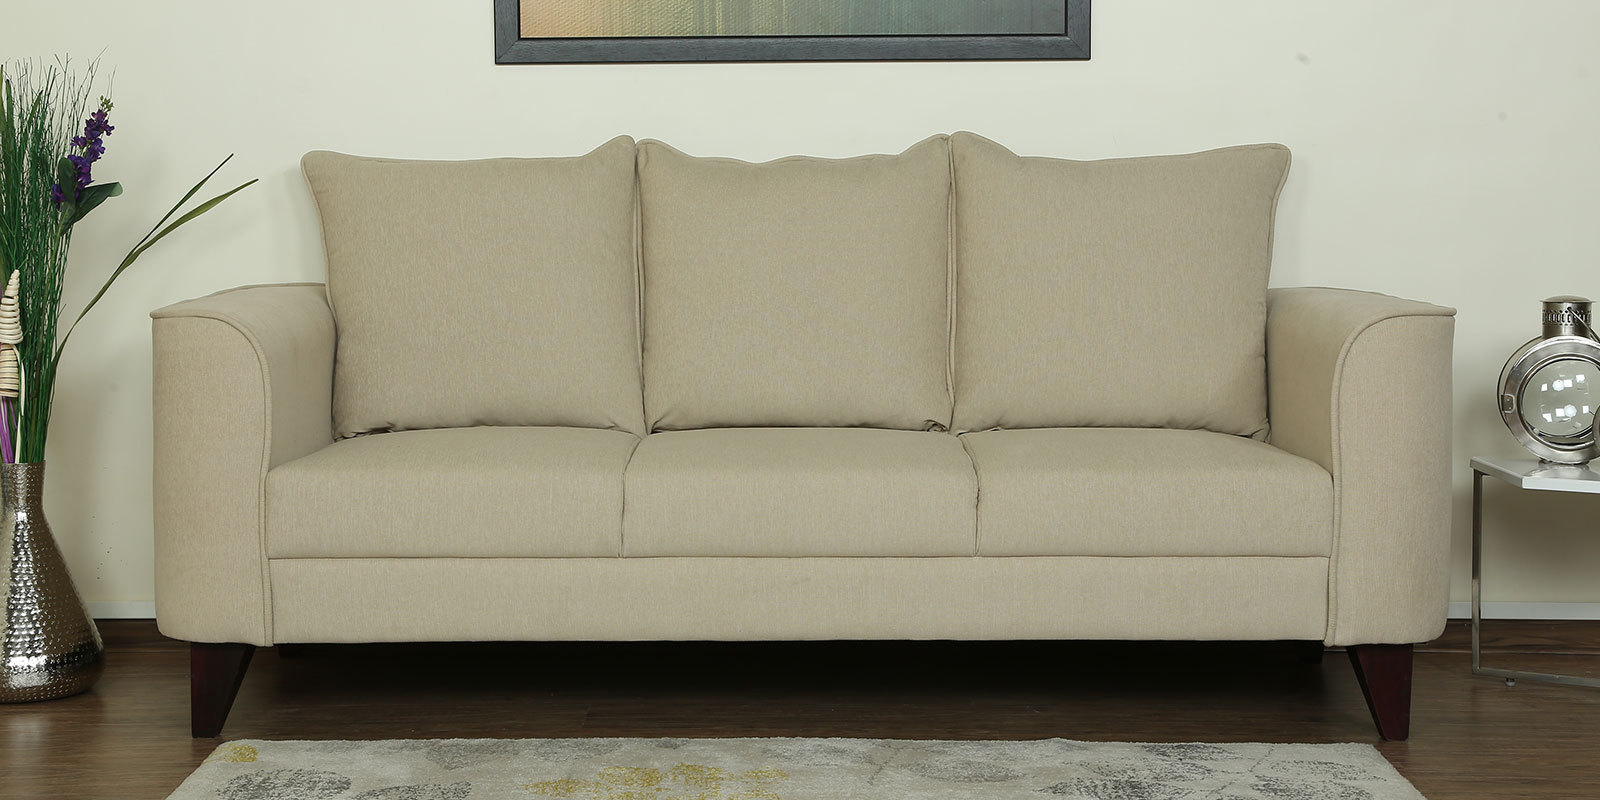Lara Three Seater Sofa in Beige Colour by CasaCraft: (150, 129, 1457, 741)
